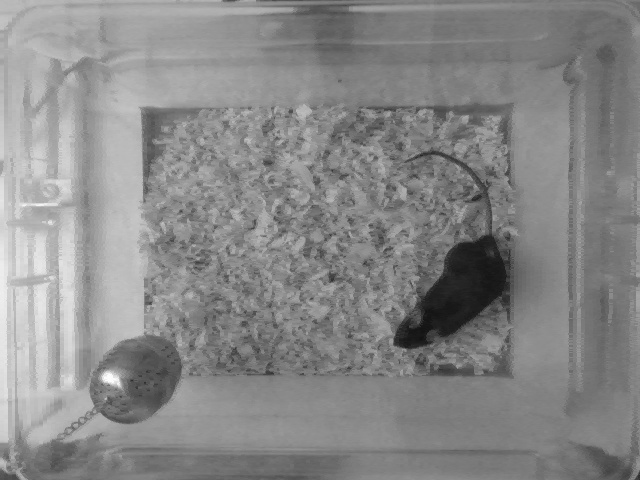mice: (390, 135, 506, 353)
